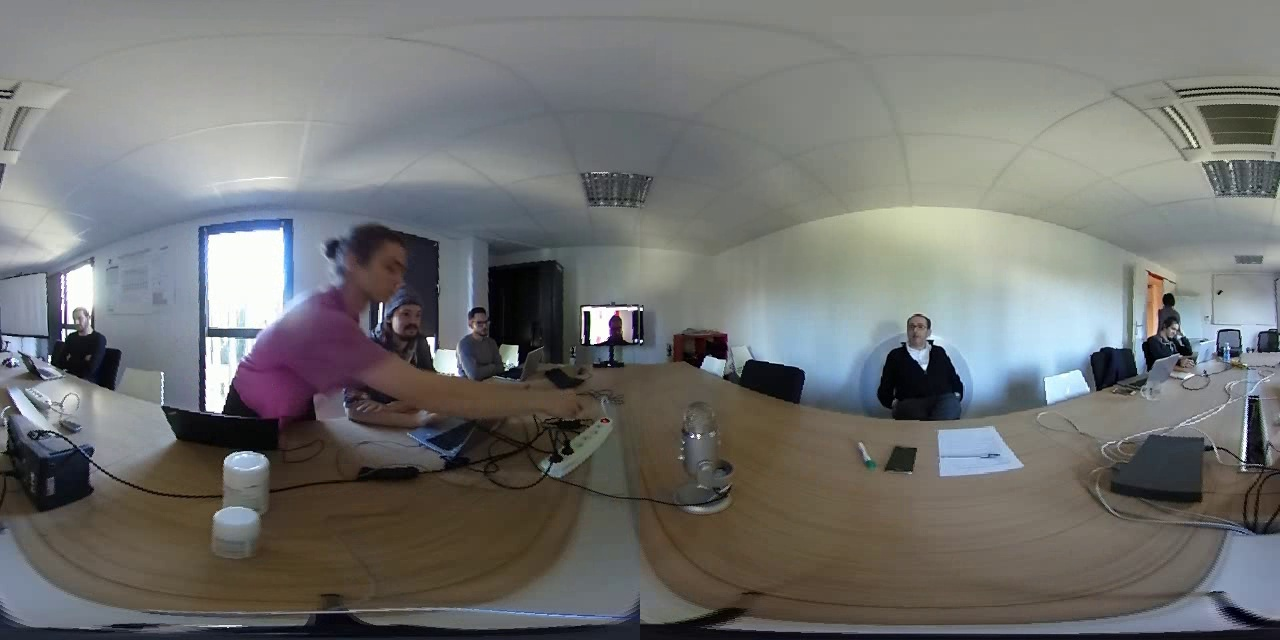person: (225, 216, 404, 373), (876, 298, 959, 407), (40, 298, 116, 376), (449, 304, 514, 376), (388, 297, 447, 371), (1141, 316, 1197, 370), (1144, 274, 1192, 322), (595, 310, 650, 344)
